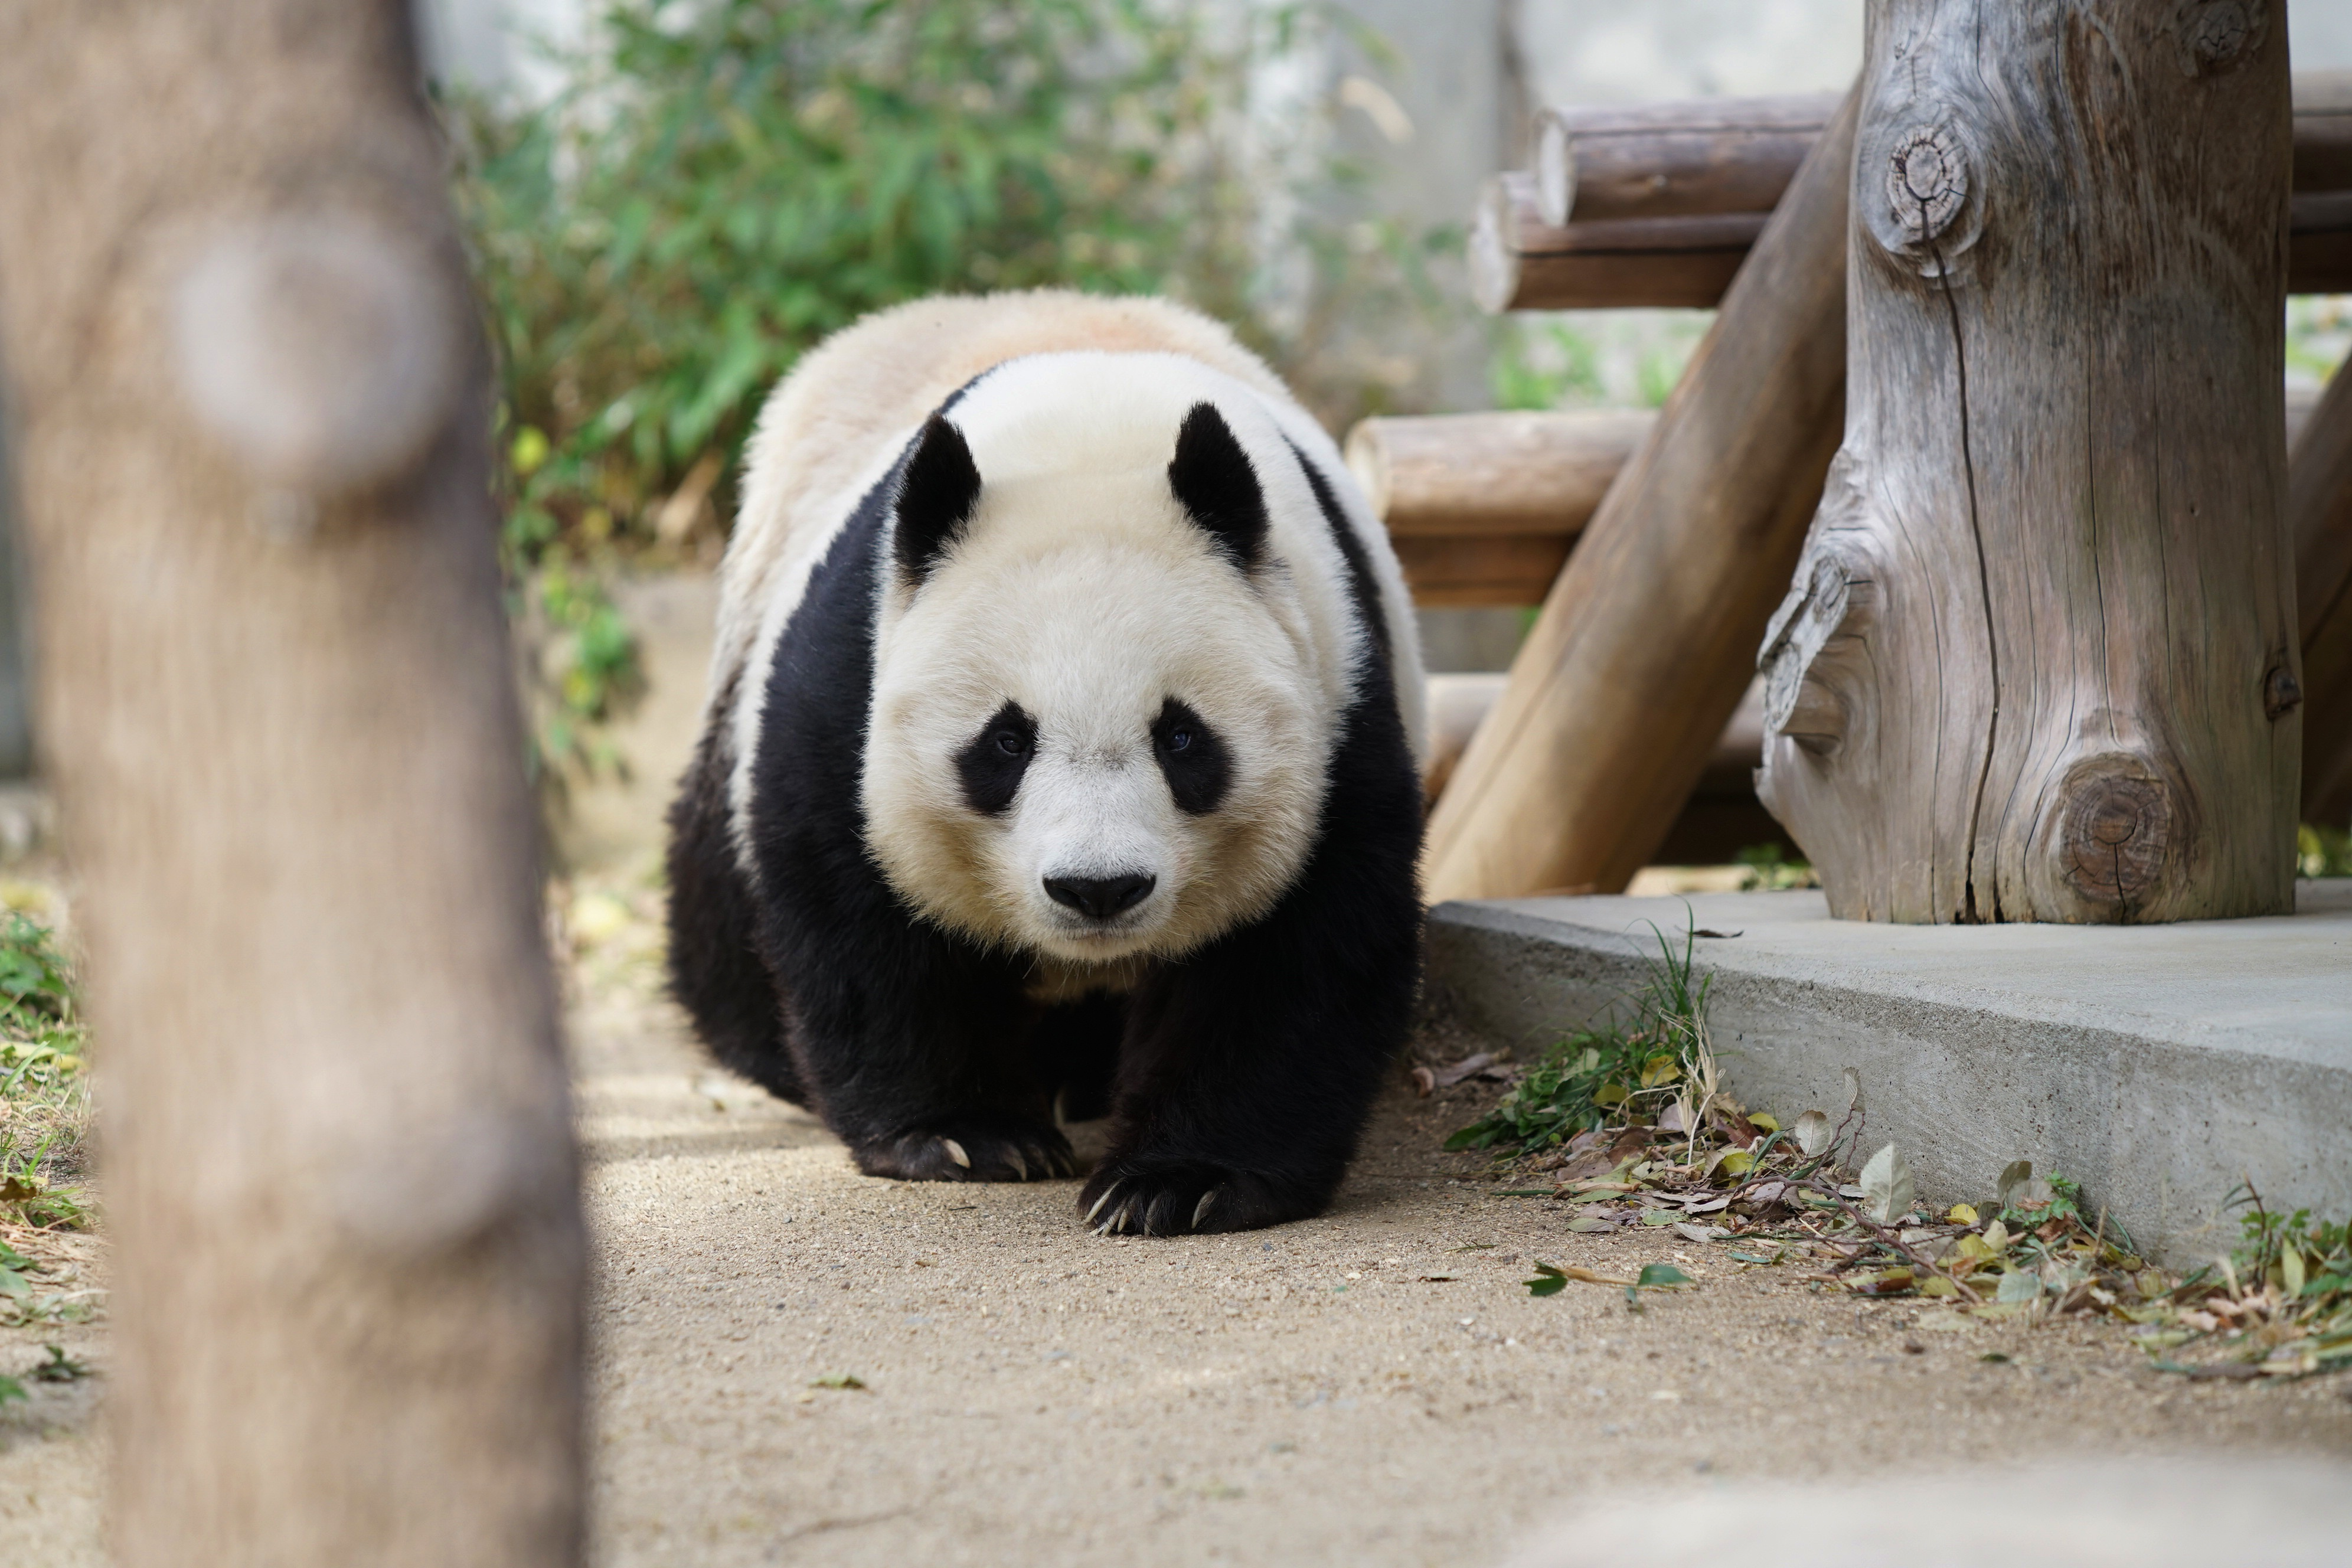panda: (674, 292, 1498, 1321)
